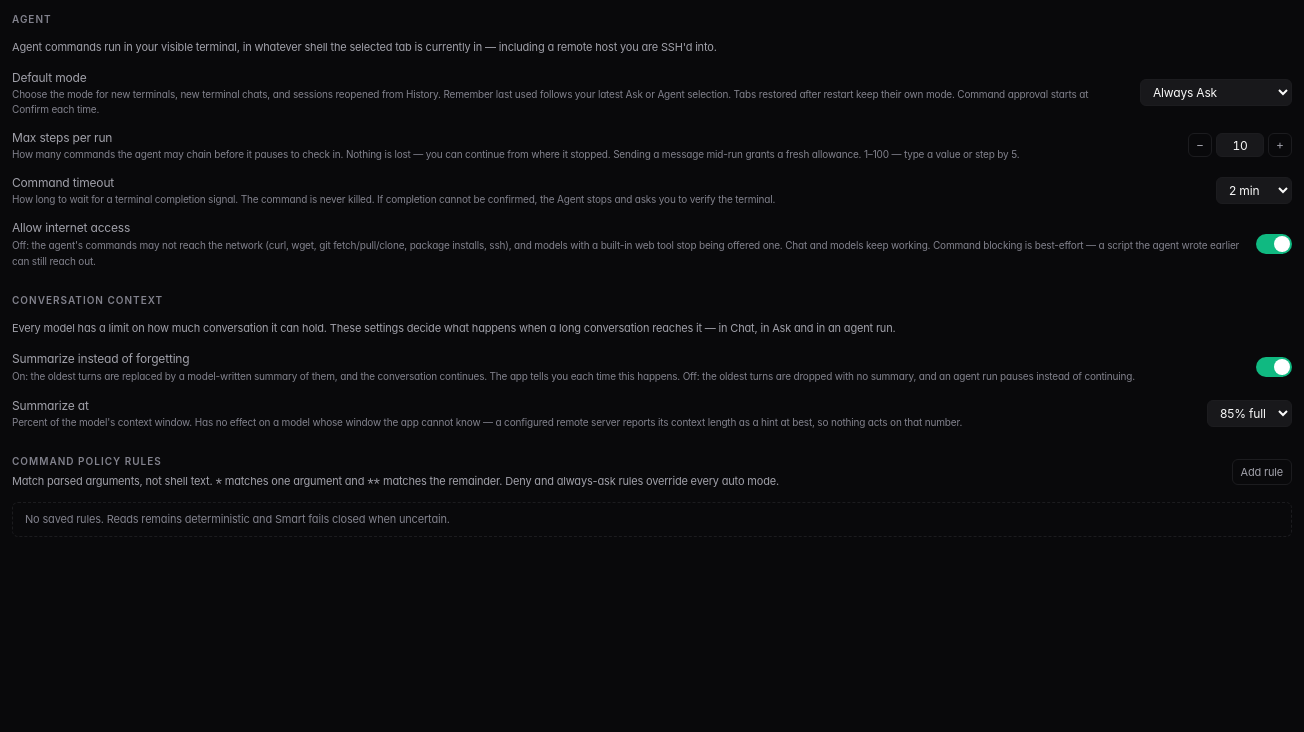
Scenario: AI mode settings › shows a failed preference save and allows retrying it
Select "Always Agent" in the dropdown named "Default mode": (1216, 93) [1140,79,1292,106]
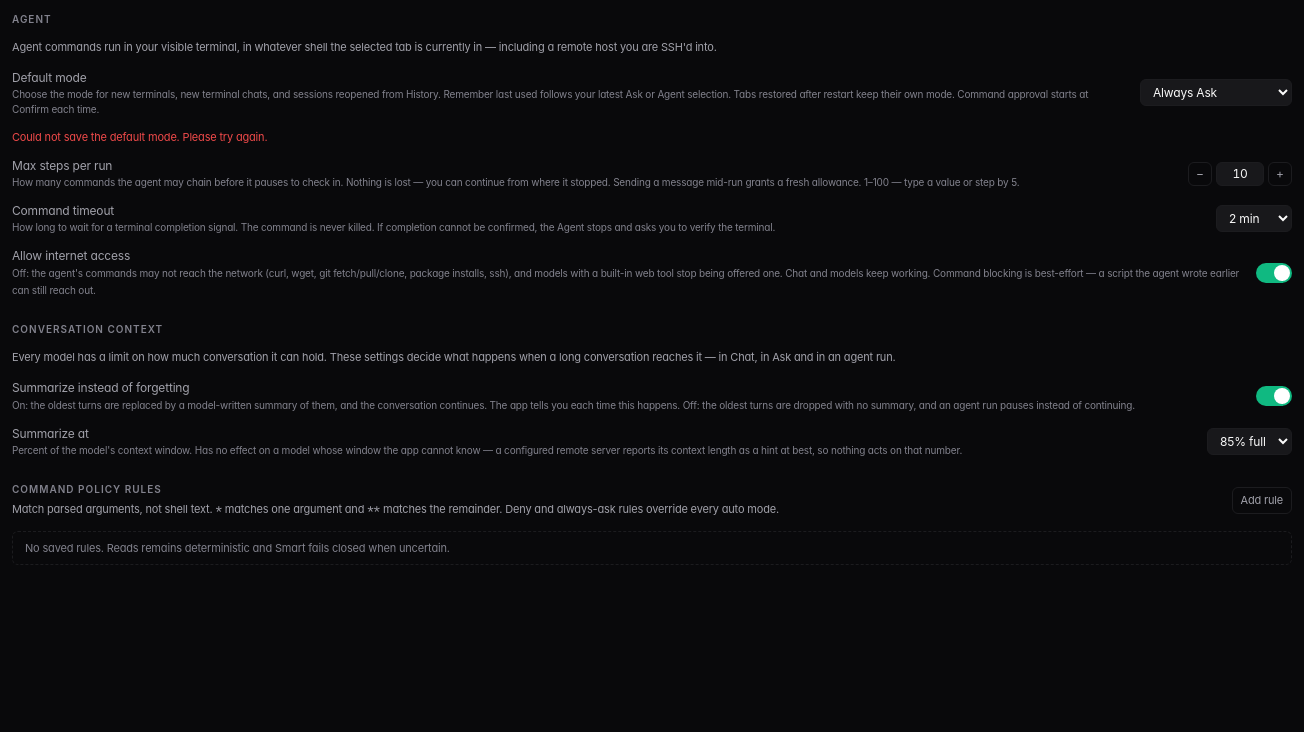
Now the message "Could not save the default mode. Please try again." is shown, box [12,130,267,144]
Select "Always Agent" in the dropdown named "Default mode": (1216, 93) [1140,79,1292,106]
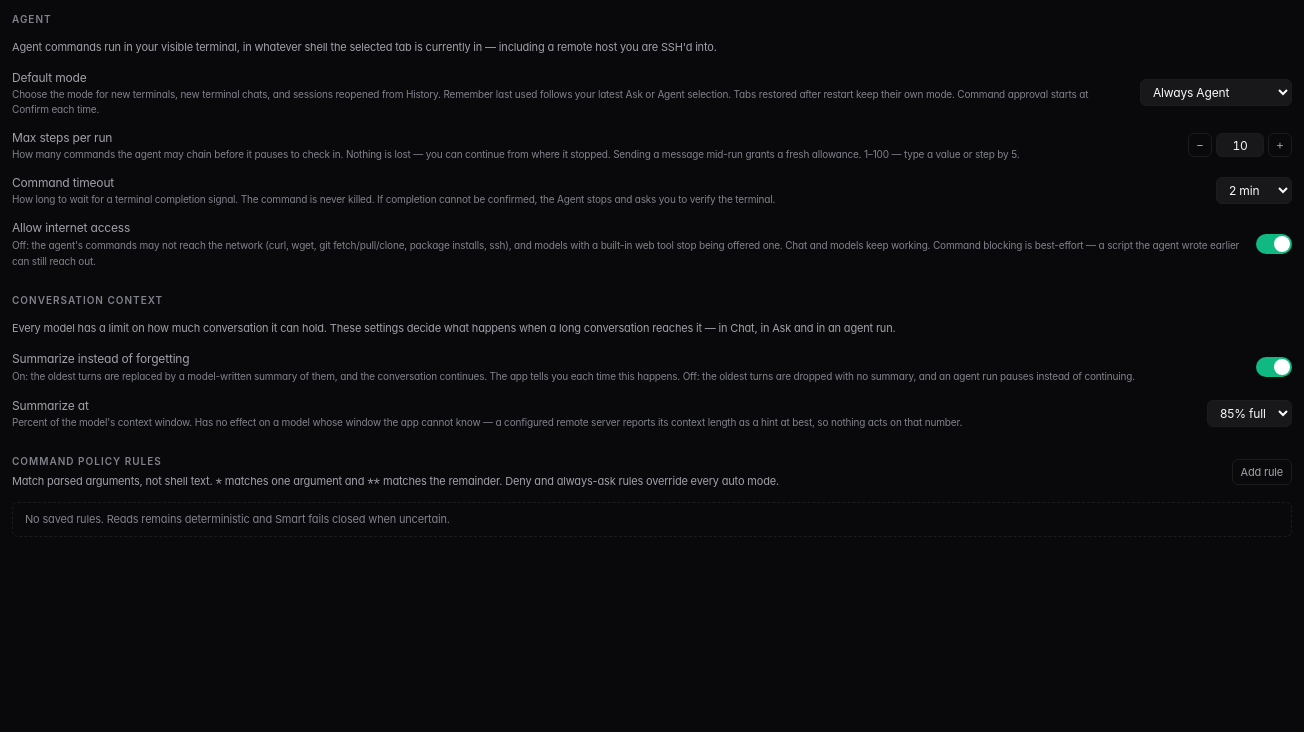
Now the message "Could not save the default mode. Please try again." is gone
